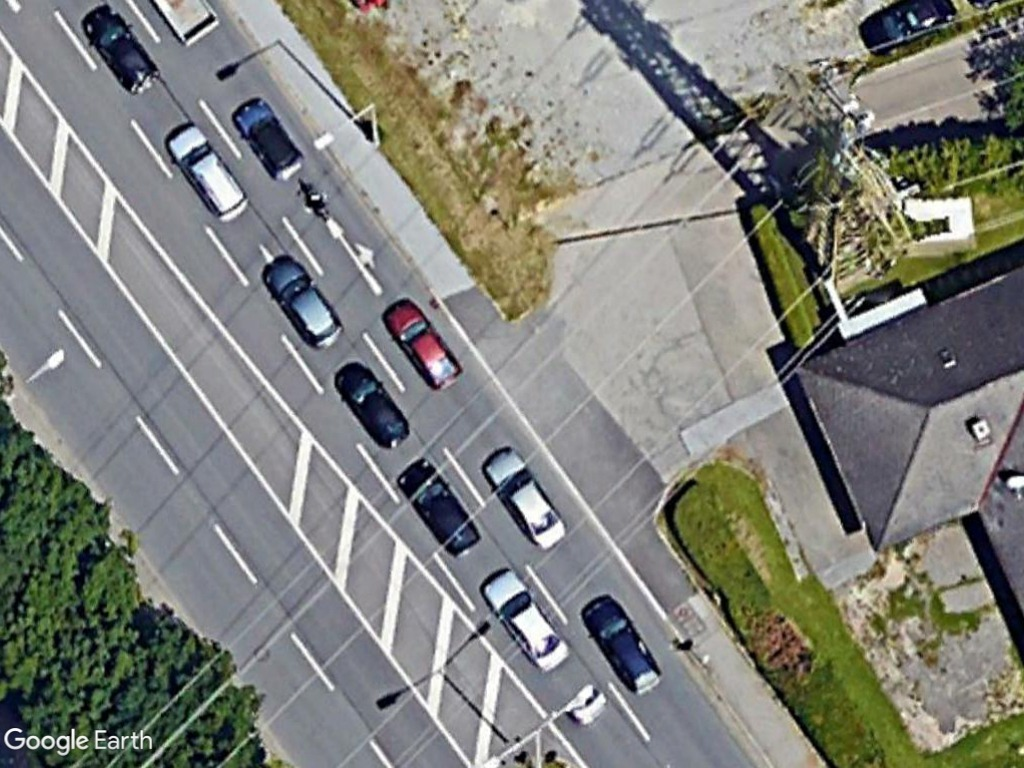car: (476, 563, 574, 676), (156, 115, 254, 227), (388, 455, 483, 560), (476, 442, 567, 550), (257, 249, 347, 353), (379, 293, 468, 394), (579, 589, 663, 696), (77, 4, 165, 100), (226, 93, 306, 183), (333, 359, 411, 451)
